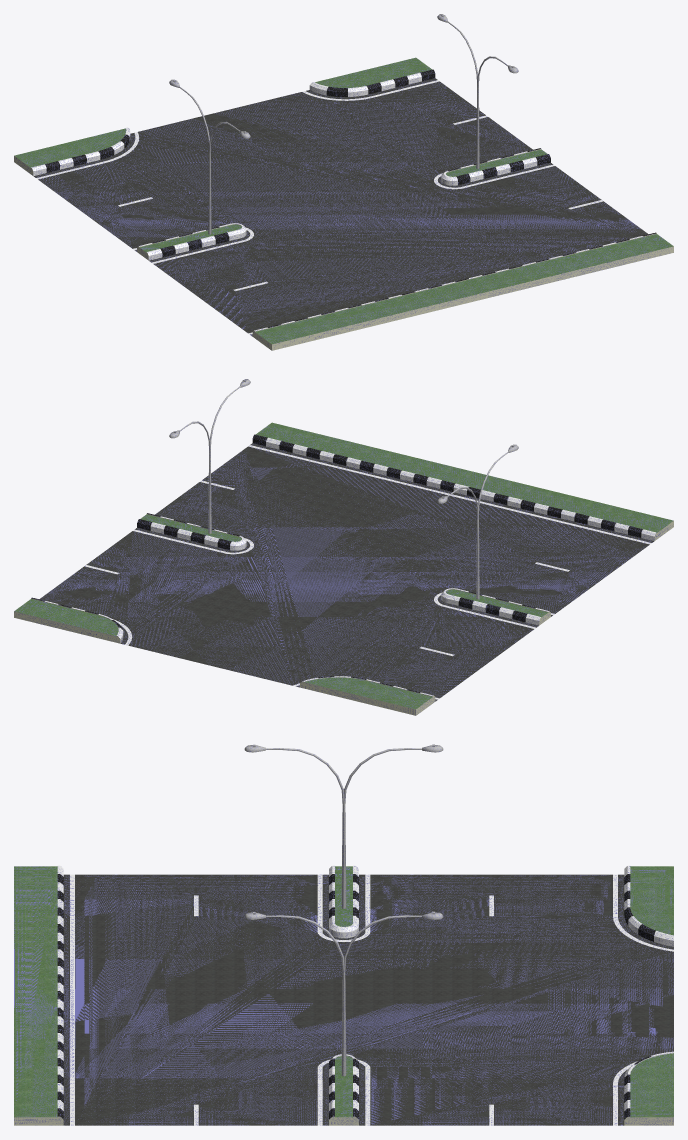
3 views of the same model, one above another, from view 1: azimuth 30°, elevation 25°; view 2: azimuth 150°, elevation 25°; view 3: azimuth 270°, elevation 25° (orthographic). The views are drawn at different scales.
Visible parts, largest first — view 1: SketchUp (×7); view 2: SketchUp (×10); view 3: SketchUp (×13).
Boxes of the visible parts, x1=… form: SketchUp (×7): x1=14, y1=57, x2=673, y2=350; SketchUp (×10): x1=14, y1=422, x2=673, y2=715; SketchUp (×13): x1=14, y1=866, x2=673, y2=1125.
Size of the model in its own units: 720 by 800 by 229.
8 materials, 2 textured.
